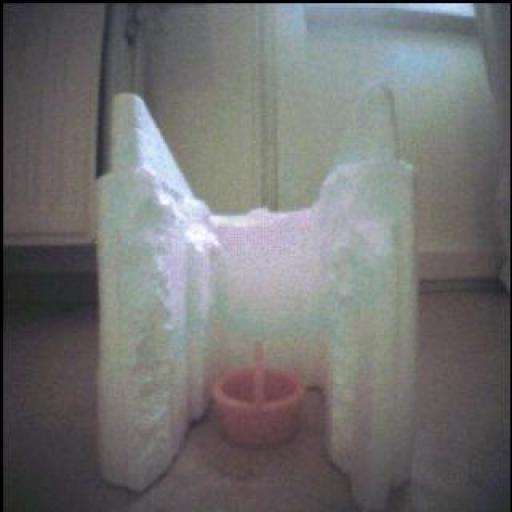Basket: (214, 348, 307, 449)
